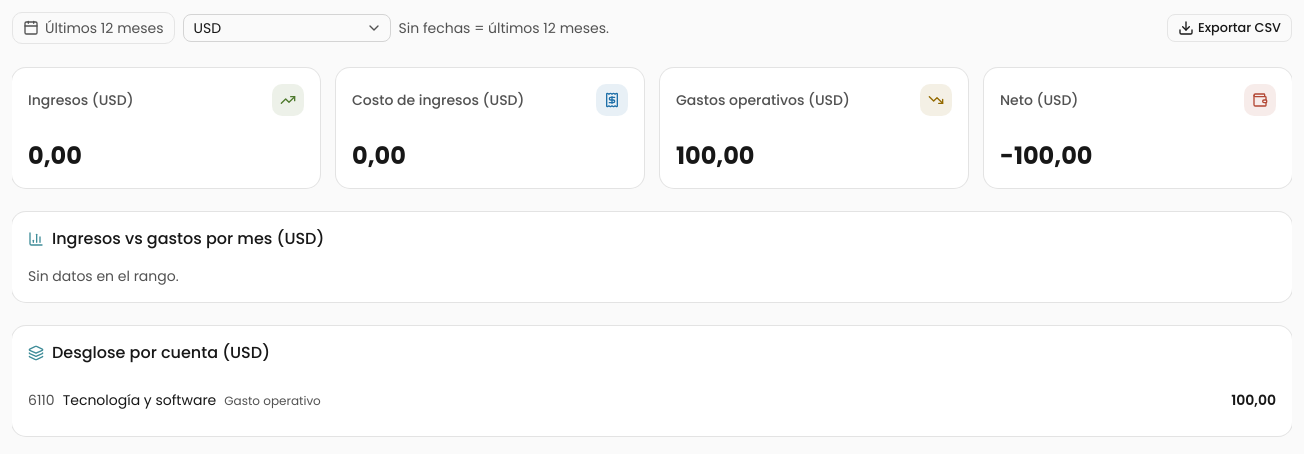
Test: PnlDashboard — el selector dice la moneda que se está pintando › solo ofrece las monedas que el reporte trae
The image size is (1304, 454).
Click the dropdown named "Moneda" at (286, 28), box [182,14,390,42]
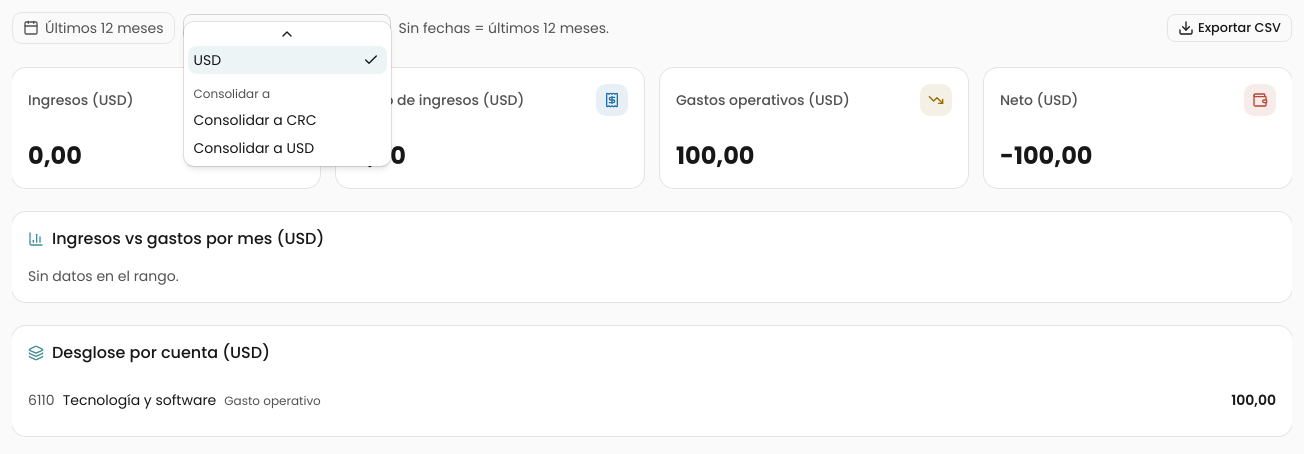
Check: the option "USD" is shown, box [188,46,386,74]
Check: the option "Consolidar a CRC" is shown, box [194,110,317,130]
